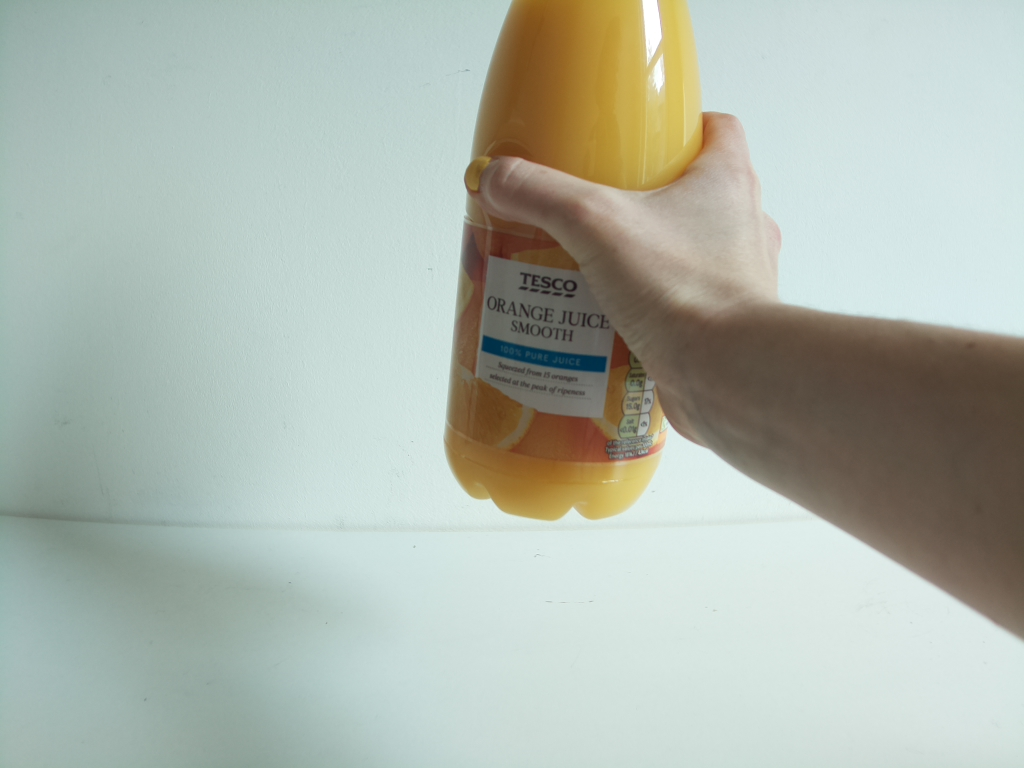juice: (442, 1, 708, 526)
